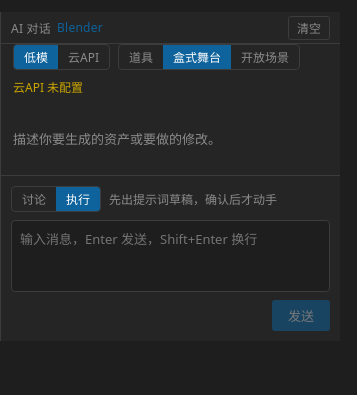
Test case: ChatPanel › shows a pending bubble until the first token arrives
Type "做一把椅子" into the text box with placeholder "输入消息，Enter 发送，Shift+Enter 换行" at (170, 256), box [11, 220, 330, 292]
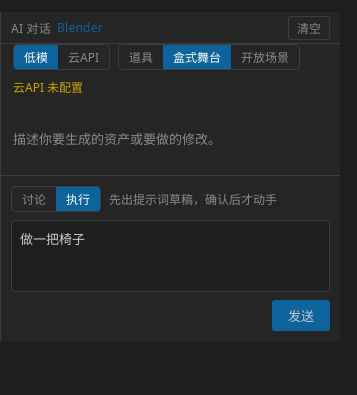
Click the button "发送" at (301, 315), box [272, 300, 330, 331]
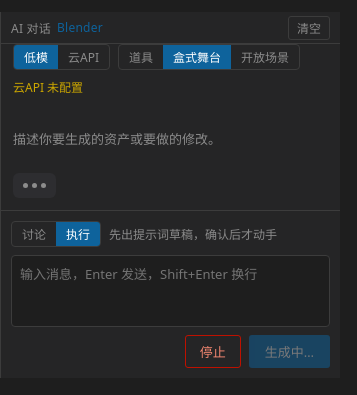
Result: the element with class "bubble" is shown at [13, 173, 56, 198]
